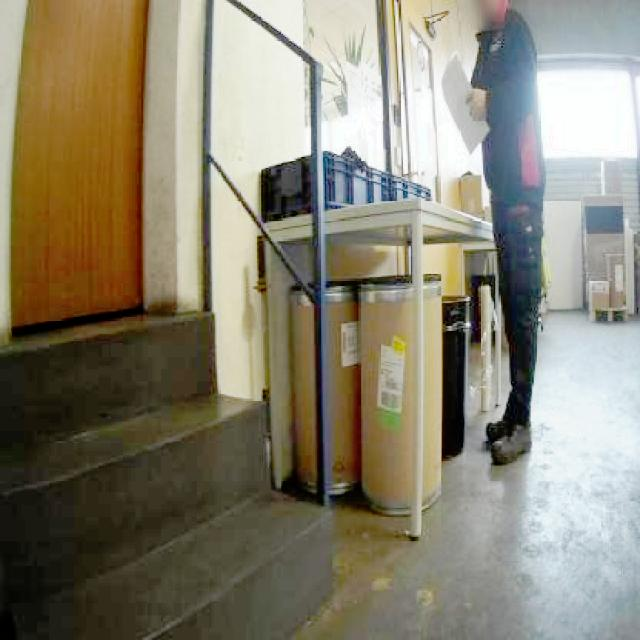ground: (275, 305, 638, 638)
pallet: (255, 194, 500, 525), (580, 192, 637, 320), (475, 280, 498, 412), (588, 249, 629, 322)
